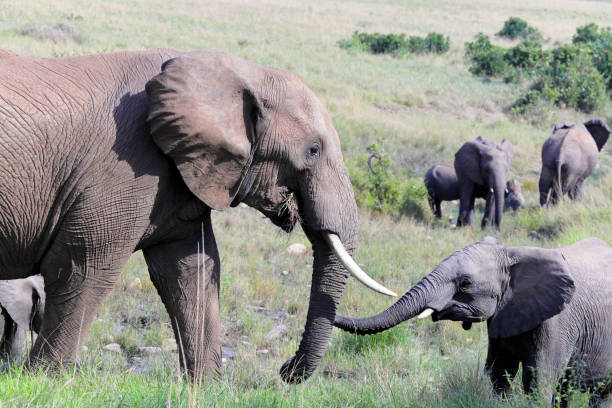africanelephant: (166, 63, 408, 305)
